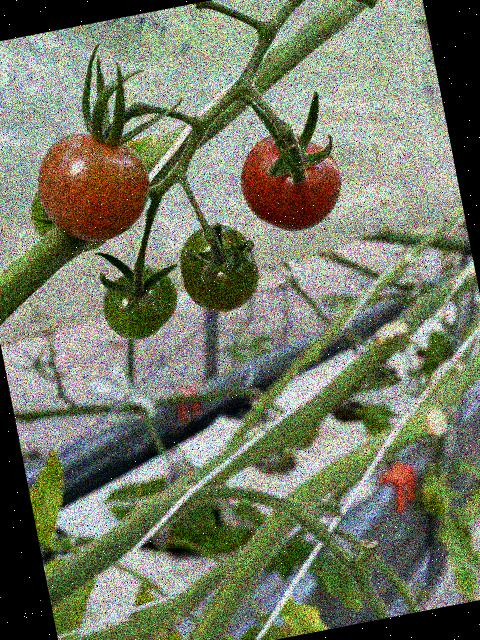l_fully_ripened: (232, 122, 349, 239)
l_green: (173, 218, 263, 318), (95, 263, 185, 344)
l_half_ripened: (29, 122, 159, 251)
